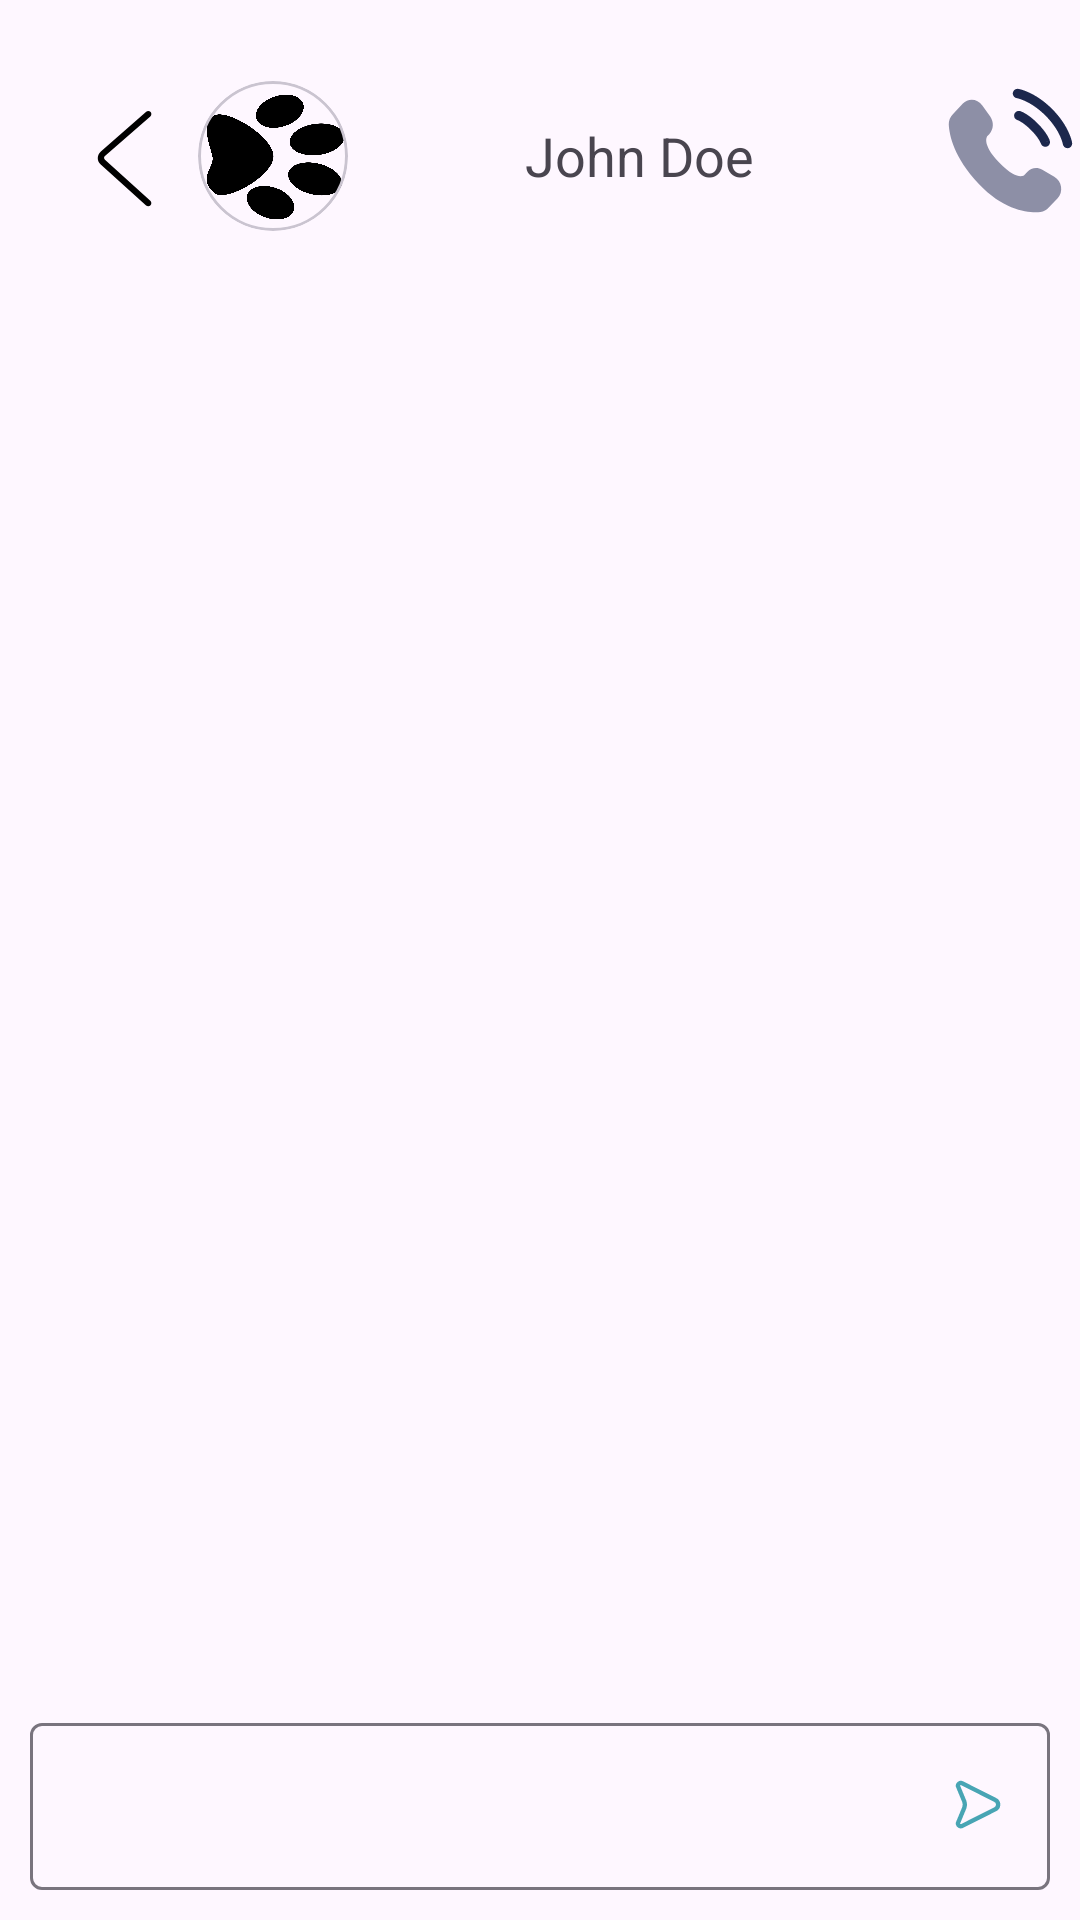

Icons on this 1080 × 1920 Android screen, each with its box as (x1, y1, x2, y2):
back: (97, 111, 152, 207)
phone: (949, 88, 1073, 213)
